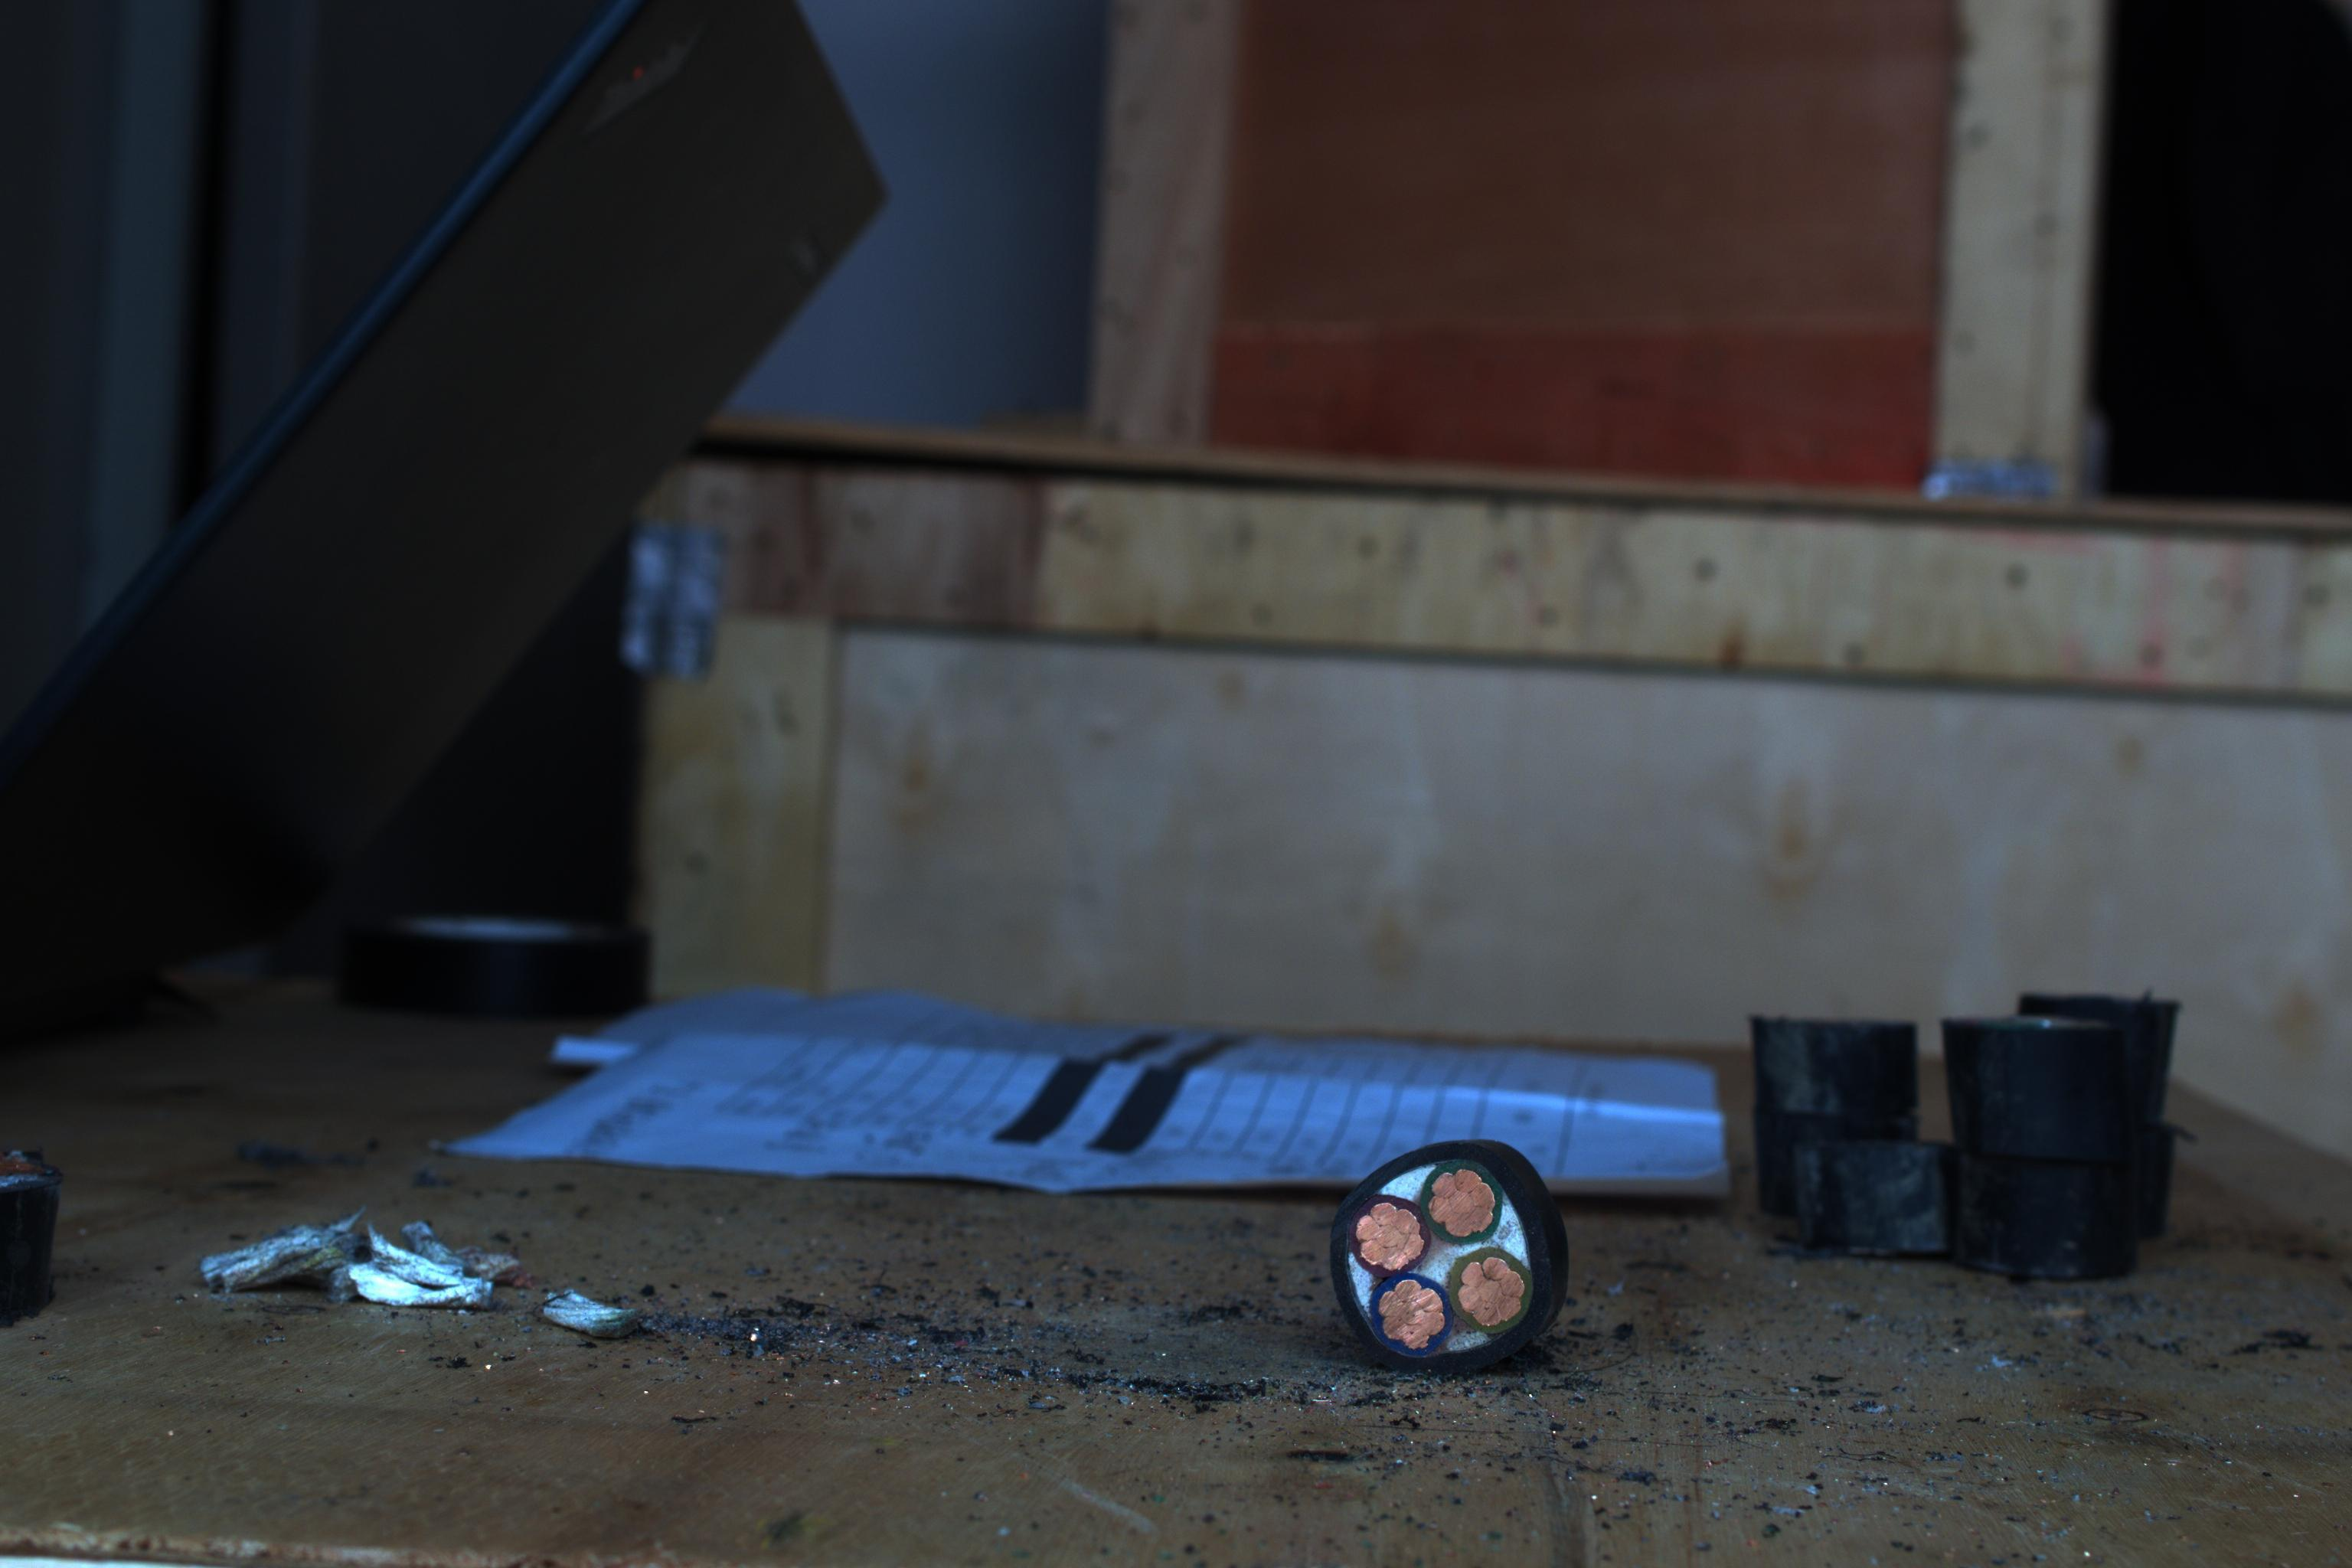YJV_0.6_1kV_4x35: (1311, 1120, 1608, 1388)
